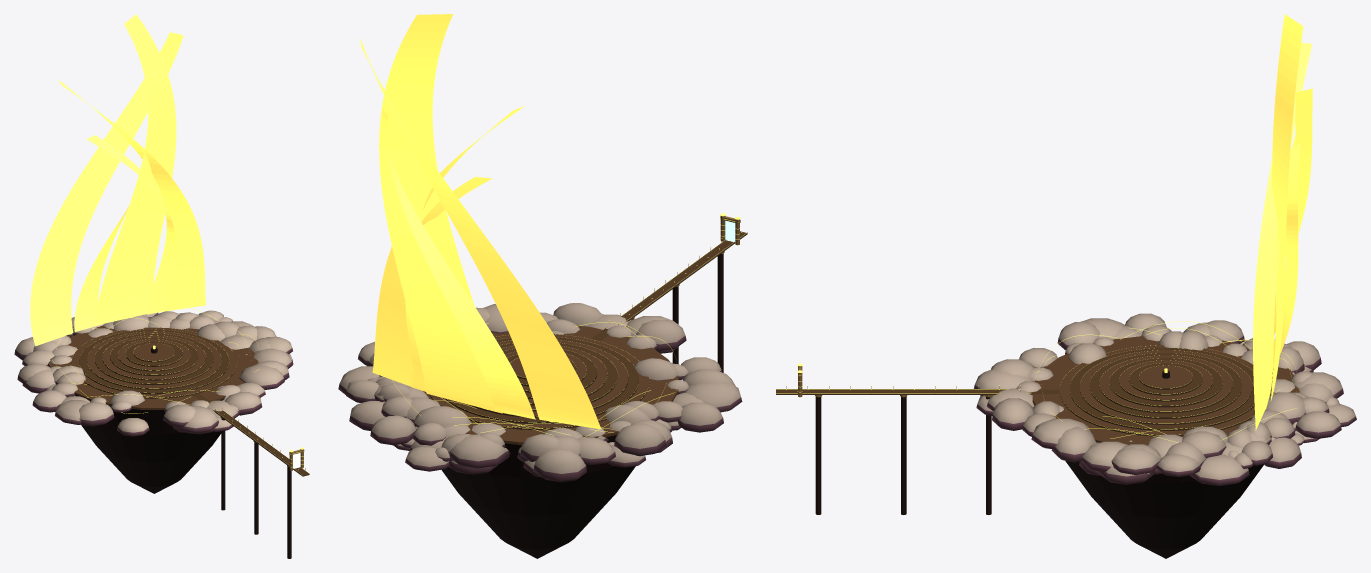
File: shaddai_edge_veil_v01.glb
3 views of the same model, side by side, from view 1: azimuth 30°, elevation 25°; view 2: azimuth 150°, elevation 25°; view 3: azimuth 270°, elevation 25° (orthographic). The views are drawn at different scales.
Parts seen in each view (by area): view 1: shaddai_edge_veil, edge_script; view 2: shaddai_edge_veil, edge_script; view 3: shaddai_edge_veil, edge_script.
Boxes of the visible parts, x1=… form: shaddai_edge_veil: x1=14, y1=308, x2=309, y2=558; edge_script: x1=30, y1=14, x2=205, y2=346; shaddai_edge_veil: x1=338, y1=213, x2=747, y2=558; edge_script: x1=360, y1=14, x2=601, y2=429; shaddai_edge_veil: x1=776, y1=313, x2=1356, y2=558; edge_script: x1=1253, y1=14, x2=1312, y2=430.
Bounding box in the file's own units: 527 × 863 × 819.
